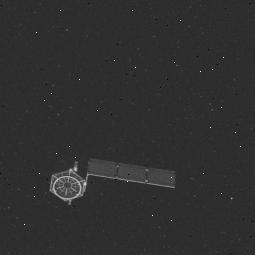earth_observation_sat_1: (34, 156, 182, 209)
